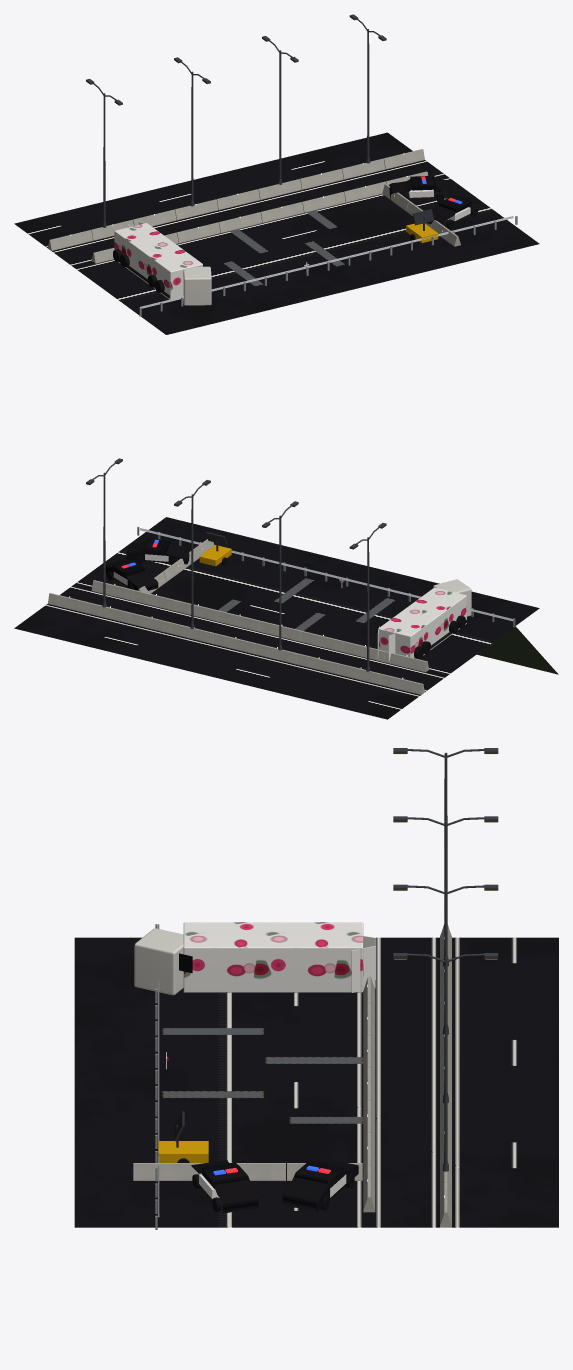
File: kiss-me-like-a-car-crash.glb
3 views of the same model, one above another, from view 1: azimuth 30°, elevation 25°; view 2: azimuth 150°, elevation 25°; view 3: azimuth 270°, elevation 25° (orthographic). The views are drawn at different scales.
Parts seen in each view (by area): view 1: set.road.mirror.nocast, set.krail_concrete, set.truck_roses, set.lamp_pole, set.cab_paint, set.cruiser_black, set.galvanised, set.tyre, set.car_glass, krail_l1.krail_concrete, krail_r1.krail_concrete; view 2: set.road.mirror.nocast, set.krail_concrete, set.truck_roses, set.lamp_pole, set.cruiser_black, set.grass, set.galvanised, set.tyre, krail_l1.krail_concrete, krail_r2.krail_concrete, krail_r1.krail_concrete, krail_l2.krail_concrete (+3 smaller); view 3: set.road.mirror.nocast, set.truck_roses, set.krail_concrete, set.cruiser_black, set.lamp_pole, set.cab_paint, set.car_glass, set.board_yellow, set.truck_white.
Boxes of the visible parts, left/top/right/bottom form: set.road.mirror.nocast: left=14, top=132, right=539, bottom=334; set.krail_concrete: left=48, top=149, right=460, bottom=263; set.truck_roses: left=114, top=223, right=202, bottom=299; set.lamp_pole: left=86, top=14, right=386, bottom=227; set.cab_paint: left=183, top=266, right=211, bottom=305; set.cruiser_black: left=389, top=175, right=480, bottom=224; set.galvanised: left=140, top=216, right=513, bottom=308; set.tyre: left=113, top=187, right=477, bottom=292; set.car_glass: left=204, top=175, right=471, bottom=266; krail_l1.krail_concrete: left=176, top=222, right=220, bottom=243; krail_r1.krail_concrete: left=302, top=192, right=345, bottom=212; set.road.mirror.nocast: left=14, top=517, right=539, bottom=719; set.krail_concrete: left=48, top=539, right=429, bottom=694; set.truck_roses: left=378, top=587, right=466, bottom=657; set.lamp_pole: left=86, top=458, right=386, bottom=671; set.cruiser_black: left=105, top=538, right=191, bottom=590; set.grass: left=477, top=626, right=558, bottom=674; set.galvanised: left=140, top=528, right=513, bottom=621; set.tyre: left=107, top=556, right=465, bottom=659; krail_l1.krail_concrete: left=300, top=631, right=344, bottom=651; krail_r2.krail_concrete: left=133, top=590, right=176, bottom=611; krail_r1.krail_concrete: left=175, top=600, right=218, bottom=621; krail_l2.krail_concrete: left=342, top=641, right=385, bottom=662; set.road.mirror.nocast: left=74, top=937, right=558, bottom=1227; set.truck_roses: left=183, top=922, right=363, bottom=992; set.krail_concrete: left=133, top=924, right=451, bottom=1227; set.cruiser_black: left=191, top=1158, right=358, bottom=1213; set.lamp_pole: left=393, top=748, right=498, bottom=1171; set.cab_paint: left=134, top=928, right=183, bottom=995; set.car_glass: left=179, top=953, right=343, bottom=1189; set.board_yellow: left=158, top=1141, right=208, bottom=1162; set.truck_white: left=351, top=936, right=375, bottom=992.
Size of the model in its own units: 34.35 by 19.65 by 27.
Materials: 27 (10 with a texture image).
